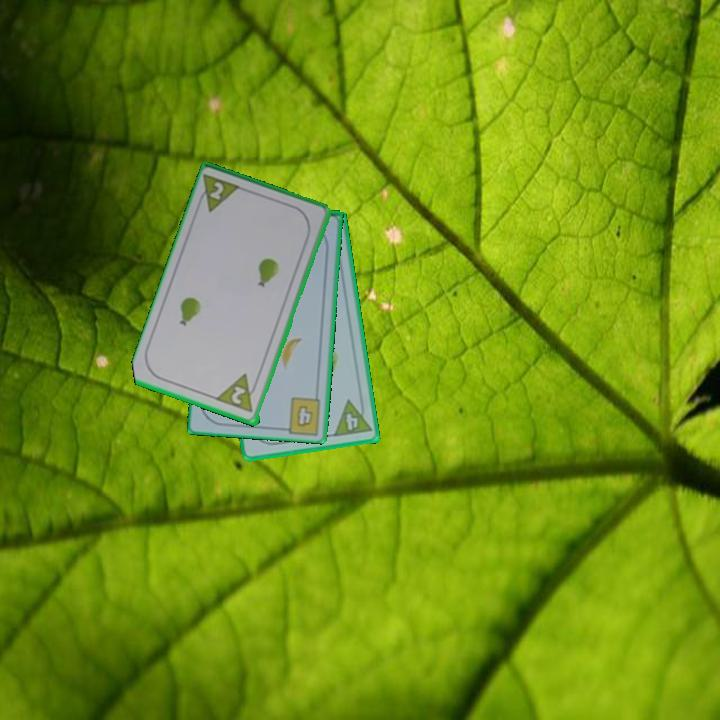2p: (228, 383, 249, 408), (206, 178, 227, 203)
4b: (293, 402, 316, 430)
4p: (330, 395, 374, 440)
